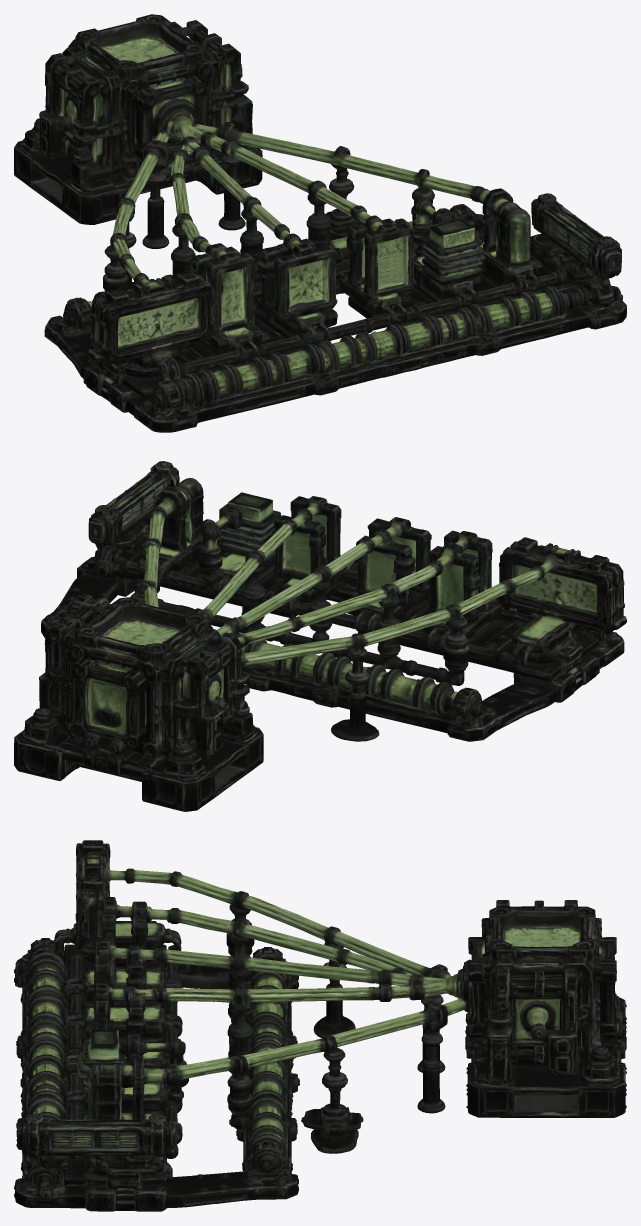
The model's file is futuristic_machinery_web.glb.
3 views of the same model, one above another, from view 1: azimuth 30°, elevation 25°; view 2: azimuth 150°, elevation 25°; view 3: azimuth 270°, elevation 25° (orthographic). The views are drawn at different scales.
Visible parts, largest first — view 1: tripo_node_40b91407-8192-46ed-a25c-0203caf368f3; view 2: tripo_node_40b91407-8192-46ed-a25c-0203caf368f3; view 3: tripo_node_40b91407-8192-46ed-a25c-0203caf368f3.
Part boxes in pixels (x1=…): tripo_node_40b91407-8192-46ed-a25c-0203caf368f3: x1=14, y1=14, x2=626, y2=432; tripo_node_40b91407-8192-46ed-a25c-0203caf368f3: x1=14, y1=461, x2=626, y2=811; tripo_node_40b91407-8192-46ed-a25c-0203caf368f3: x1=14, y1=840, x2=626, y2=1211.
Bounding box in the file's own units: 0.9808 × 0.2836 × 0.9775.
Materials: 1 (1 with a texture image).
